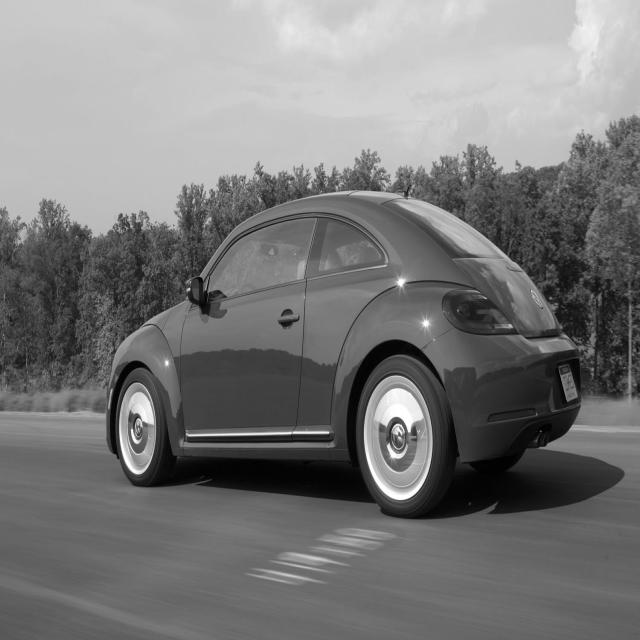car: (104, 183, 582, 518)
plat_license: (553, 358, 583, 411)
